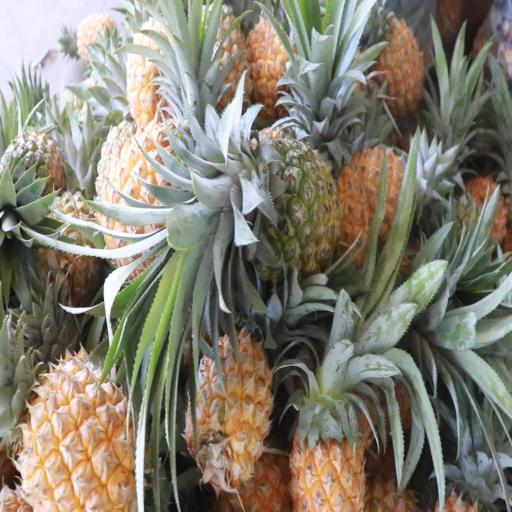Pineapple - v8 v1: (0, 351, 142, 512), (98, 109, 216, 266), (188, 324, 274, 498), (292, 328, 373, 512), (360, 15, 428, 118)
